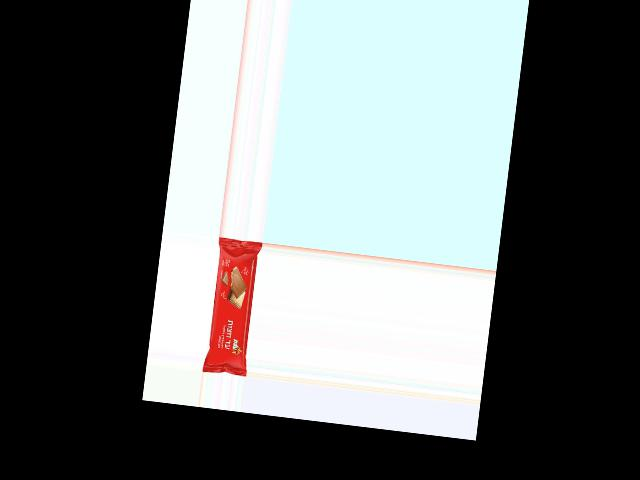chocolate: (201, 238, 262, 373)
